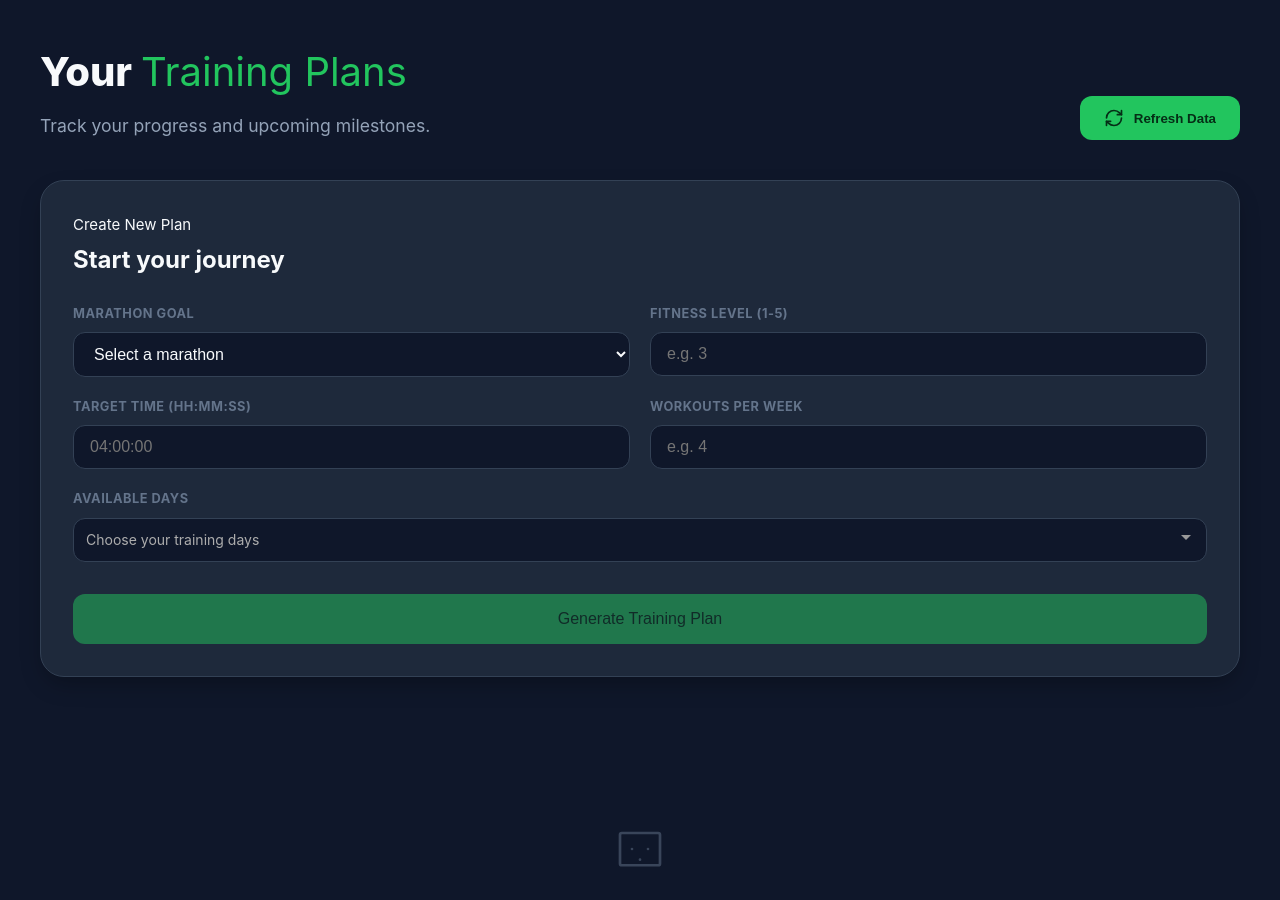
it: fetches and displays plans when button is clicked
# Klik knop
What coordinates should you click on to do the following:
click the button with class "refresh-btn"
I would click on:
 (1160, 118)
Its box is [1080,96,1240,140].
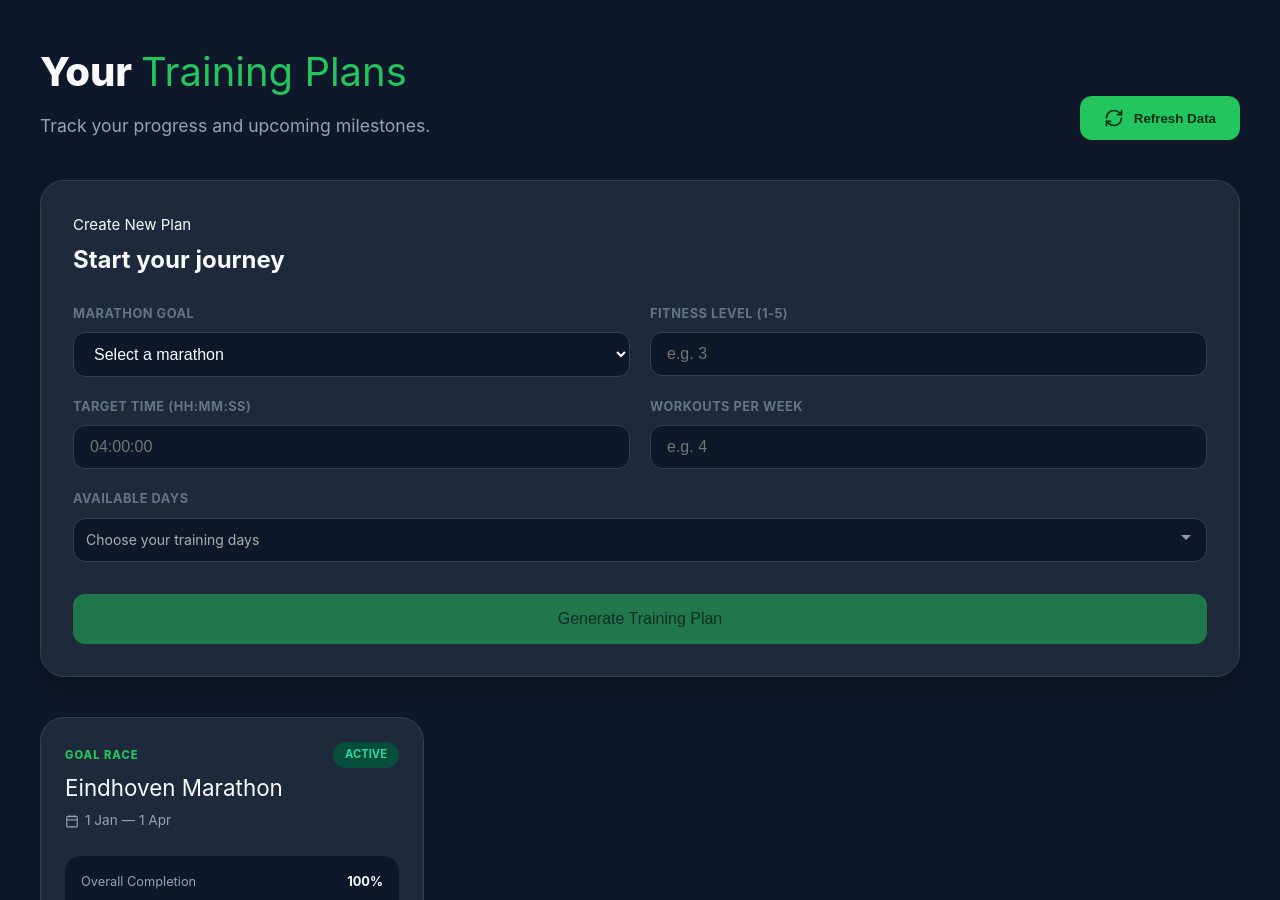
Expected: the text "Eindhoven Marathon" is shown, [65,770,283,806]
